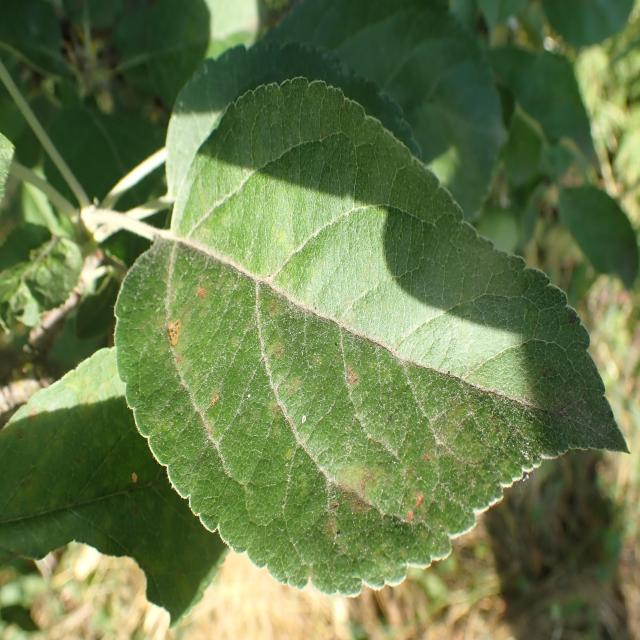scab: (116, 172, 582, 566)
